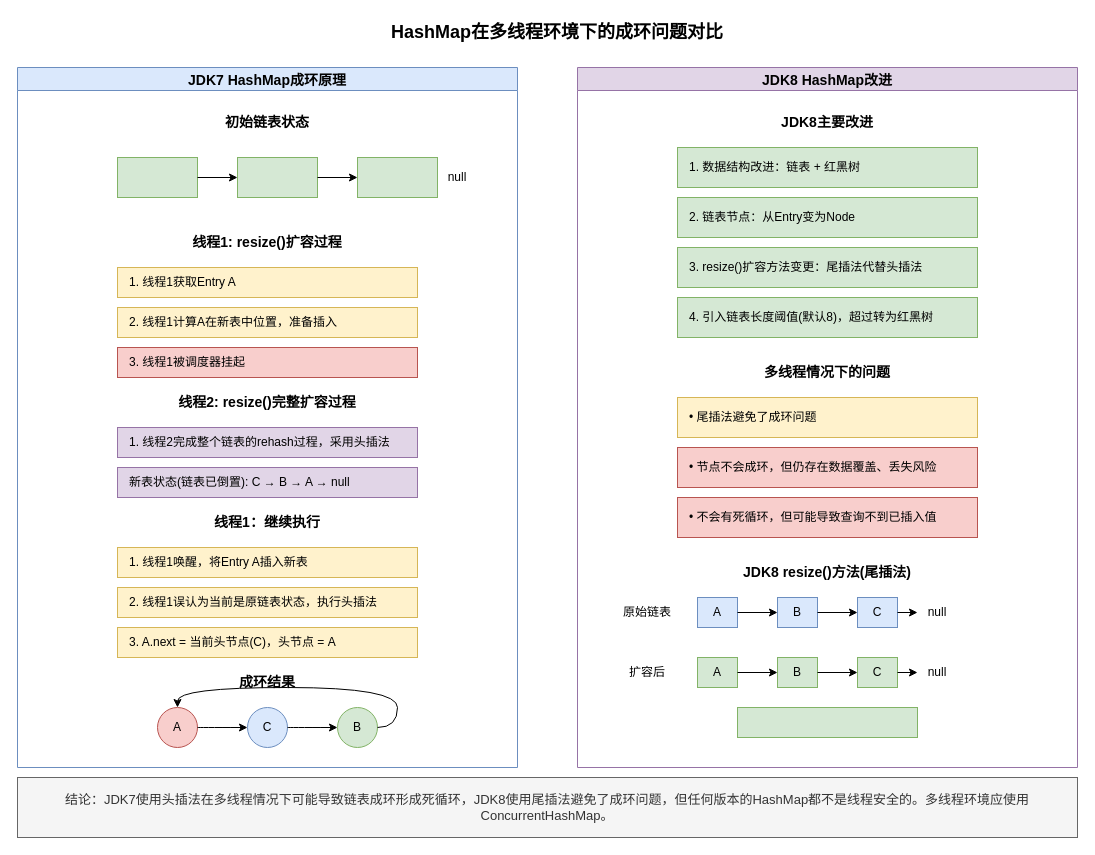
Some shapes in this 1095 by 855 pixel diagram are drawn without their labels. The shapes that lost their labels are listed below. From the top down, each one's centre as x and y in pixels, then its label:
pixel 157 177: Entry Key=A
pixel 277 177: Entry Key=B
pixel 397 177: Entry Key=C
pixel 827 722: 链表顺序保持不变，不会成环
